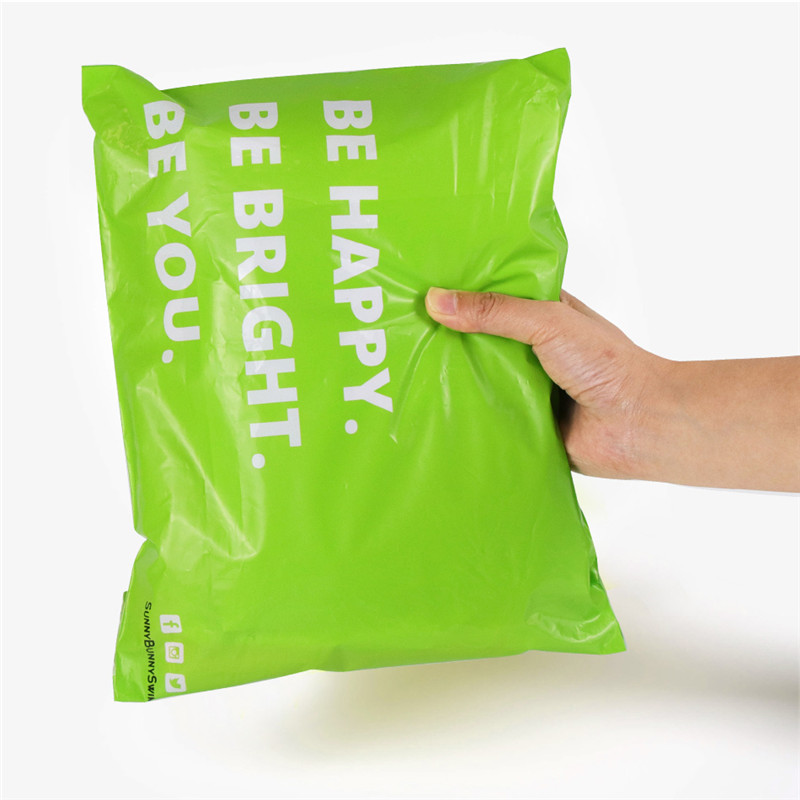塑料袋: (82, 50, 624, 702)
